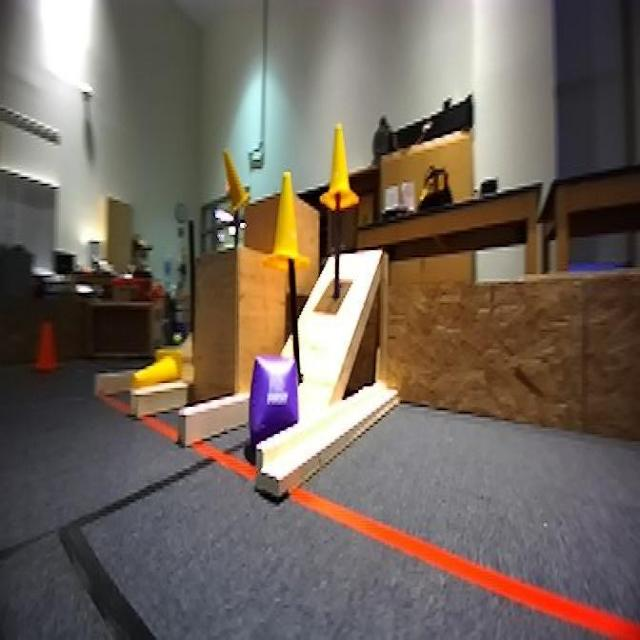frc_cone: (268, 172, 310, 272), (321, 124, 359, 213), (218, 143, 252, 214), (132, 346, 184, 392)
frc_cube: (251, 352, 299, 439)
